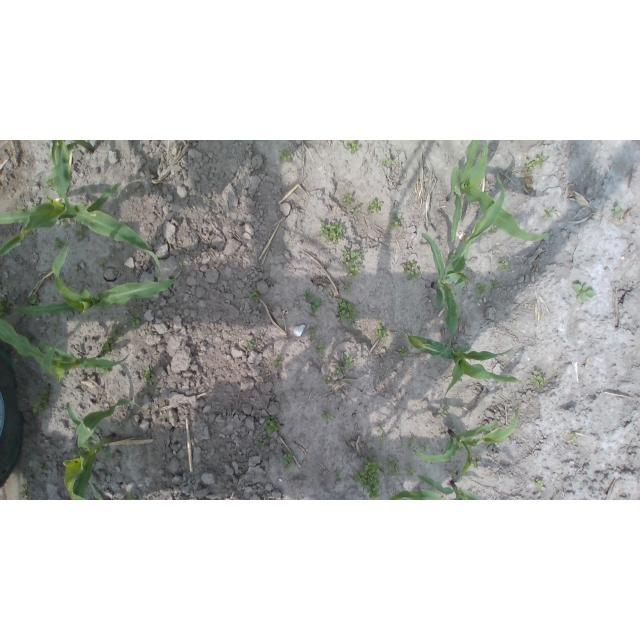Maize: (0, 140, 160, 268), (18, 238, 185, 315), (0, 283, 128, 377), (446, 141, 550, 244), (62, 398, 143, 500), (407, 328, 522, 397), (416, 406, 519, 478), (421, 231, 474, 359), (387, 472, 479, 500), (67, 140, 98, 154)
Weeds: (353, 454, 383, 498), (341, 246, 366, 279), (319, 220, 345, 245), (337, 298, 358, 325), (304, 290, 325, 316), (573, 282, 596, 301), (403, 260, 420, 281), (264, 415, 280, 437), (100, 336, 116, 355), (529, 370, 545, 388), (384, 460, 400, 477), (280, 453, 294, 472), (376, 323, 389, 340), (340, 352, 353, 369), (40, 388, 51, 408), (129, 313, 144, 327), (391, 214, 405, 229), (368, 199, 383, 213), (44, 176, 57, 192), (346, 140, 360, 154), (437, 405, 450, 420), (32, 400, 44, 416), (144, 367, 154, 386), (490, 278, 503, 292), (98, 256, 113, 268), (323, 412, 336, 425), (535, 155, 548, 168), (112, 325, 124, 339), (476, 283, 488, 297), (280, 148, 292, 162), (498, 260, 511, 272), (524, 158, 535, 172), (543, 207, 554, 221), (611, 205, 621, 220), (376, 425, 384, 443), (400, 468, 416, 477), (342, 193, 353, 205), (76, 224, 87, 236), (30, 294, 41, 306), (248, 290, 260, 300), (271, 356, 281, 368), (19, 484, 28, 497), (54, 238, 64, 249), (398, 346, 409, 356), (315, 344, 325, 355), (125, 492, 137, 501), (53, 373, 63, 383), (256, 439, 265, 450), (308, 327, 317, 338), (71, 446, 80, 457), (247, 340, 257, 349), (336, 363, 345, 373), (322, 376, 332, 385), (408, 437, 417, 447), (534, 479, 542, 490), (382, 157, 393, 165), (568, 433, 576, 443), (472, 459, 480, 469), (60, 219, 69, 227), (344, 285, 353, 293), (488, 225, 496, 234), (335, 470, 342, 480), (39, 465, 46, 475), (16, 206, 26, 213), (50, 322, 57, 330), (99, 369, 110, 374), (42, 313, 53, 318), (29, 205, 36, 212), (451, 470, 457, 478), (423, 445, 430, 451)
